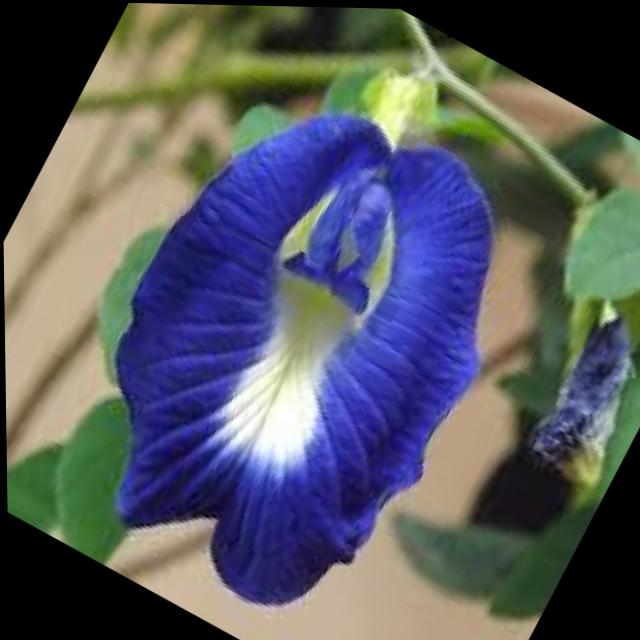Flower: (31, 54, 559, 640)
